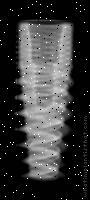Euroteknika: (17, 21, 75, 182)
